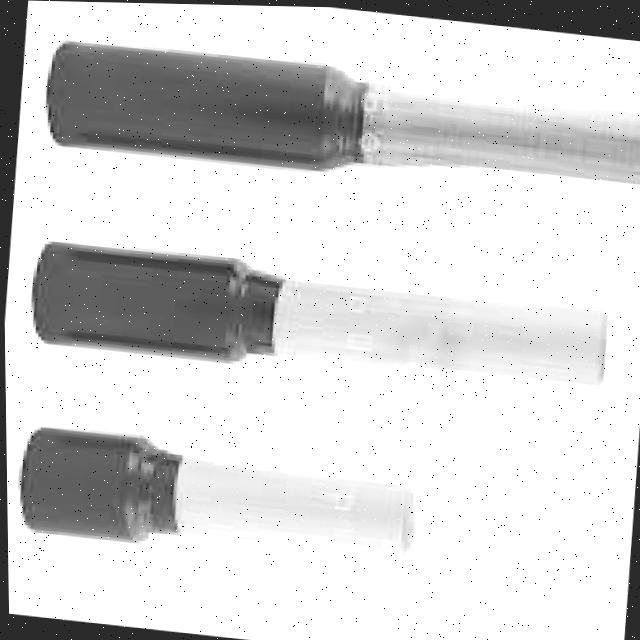grenade: (36, 32, 640, 207), (24, 231, 615, 405), (7, 418, 420, 577)
